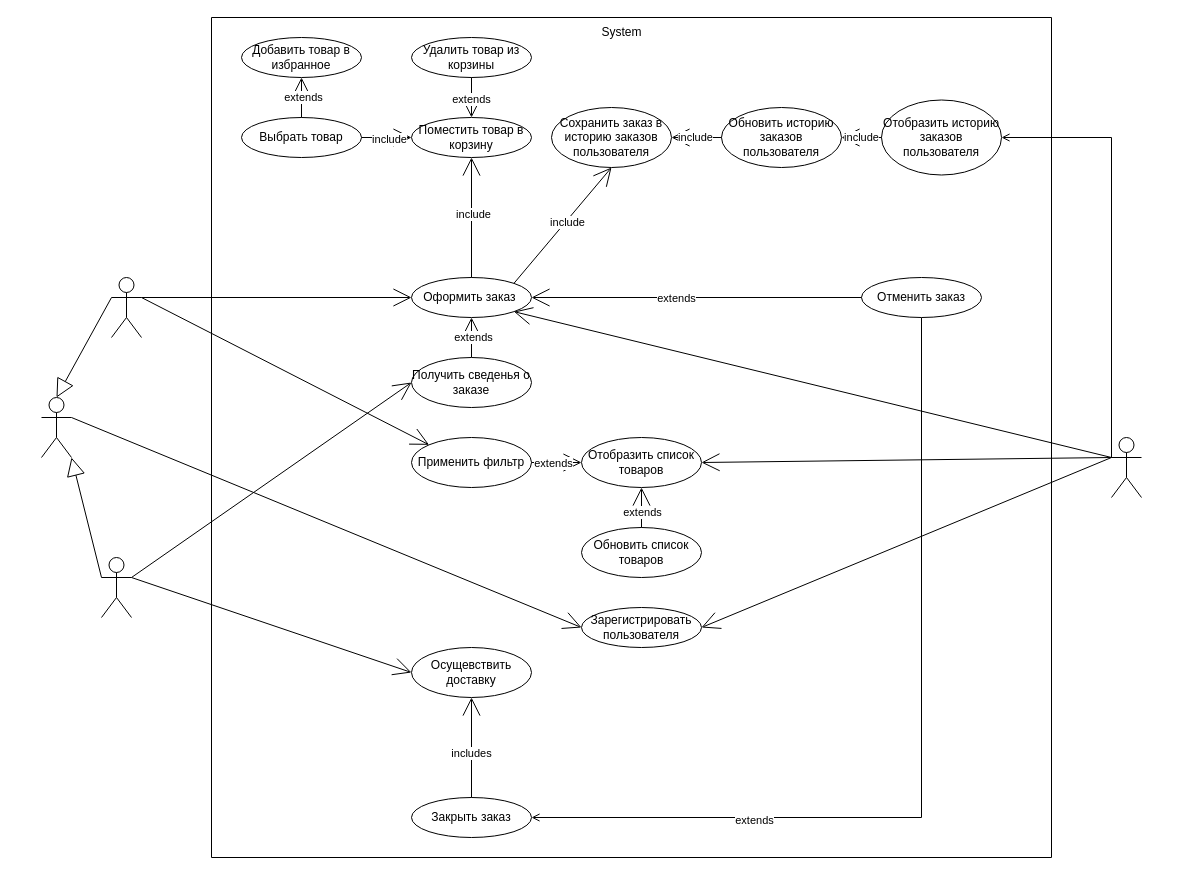
The diagram is 1178 pixels wide and 875 high, and some of its shapes have lost their labels. Here are the shapes that lost their labels. From the top down, the box of each, then its label:
(110, 276, 142, 338): Клиент
(40, 396, 72, 458): Пользователь
(1110, 436, 1142, 498): Приложение
(100, 556, 132, 618): Курьер
